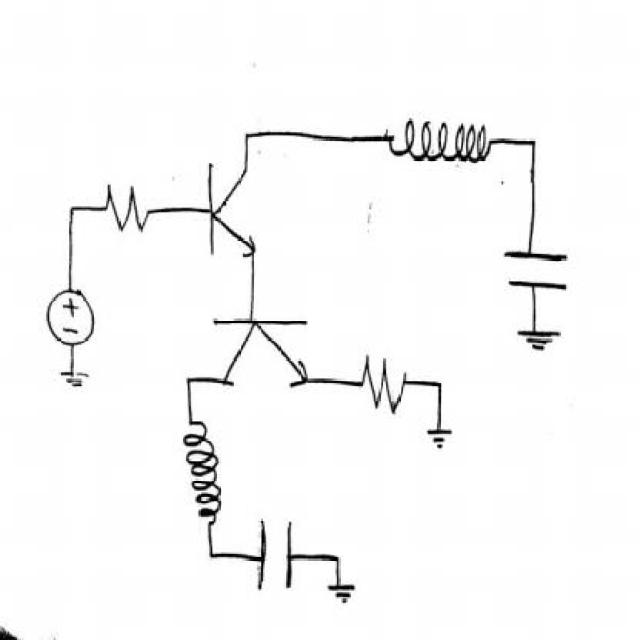capacitor: (244, 506, 304, 605), (493, 242, 581, 300)
ground: (508, 313, 570, 364), (423, 414, 469, 461), (56, 361, 90, 409), (324, 572, 364, 611)
inductor: (386, 111, 508, 181), (176, 416, 232, 527)
resistor: (352, 339, 413, 426), (93, 174, 157, 240)
transistor: (198, 304, 317, 394), (198, 150, 260, 268)
voltage_source: (40, 280, 103, 354)
